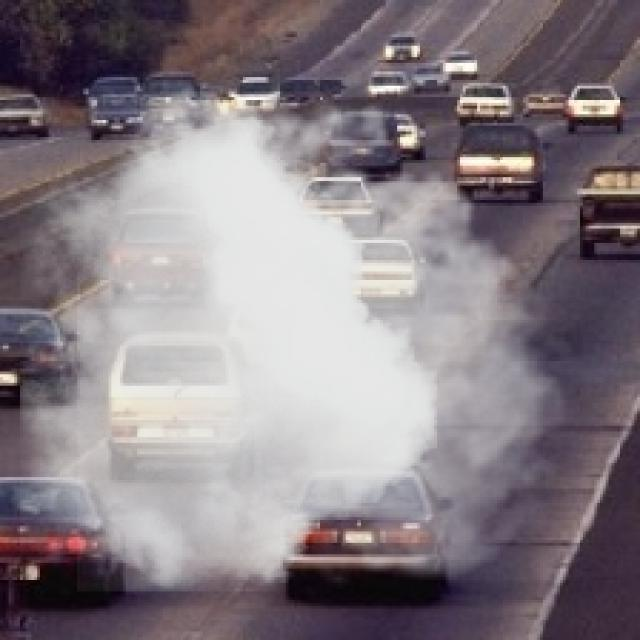smoke: (20, 69, 586, 592)
